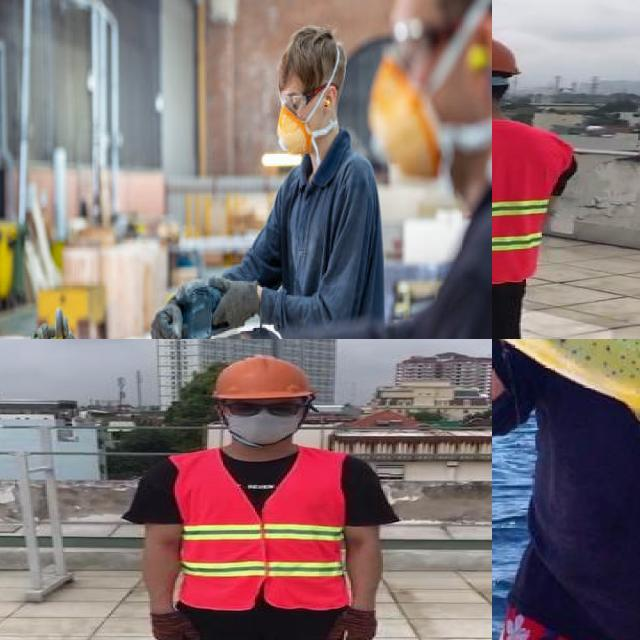No_Ear-Protection: (322, 85, 338, 113)
face_mask: (370, 56, 440, 176), (221, 400, 305, 444), (277, 107, 312, 154)
glasses: (221, 397, 305, 422)
hand_glove: (390, 17, 457, 69), (209, 278, 260, 327), (331, 609, 379, 640), (150, 612, 203, 640), (151, 298, 182, 339), (280, 86, 325, 114)
head_helmet: (212, 353, 318, 402), (492, 32, 522, 76)
head_nohelmet: (278, 25, 347, 92)
person: (122, 350, 398, 640), (492, 339, 640, 640), (492, 29, 578, 339)
vest: (174, 446, 348, 611), (492, 119, 570, 282)
